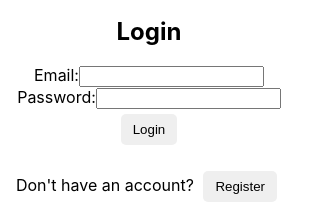
it: AuthPage › handles successful registration
The width and height of the screenshot is (320, 219).
Click the button "Register". click: click(240, 187)
box: [203, 171, 277, 202]
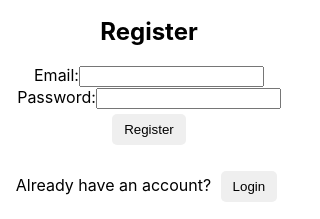
Type "newuser@example.com" into the field labelled "Email:". click: (172, 77)
box: [79, 66, 264, 87]
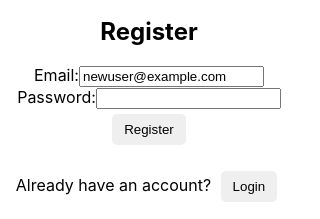
Type "newpassword" into the password field labelled "Password:". click: (188, 99)
box: [96, 88, 281, 109]
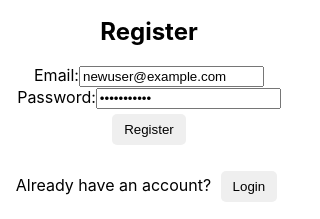
Click the button "Register". click: click(149, 130)
box: [112, 114, 186, 145]
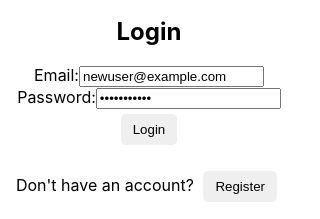
Now the heading "Login" is shown, box [116, 16, 181, 46]
